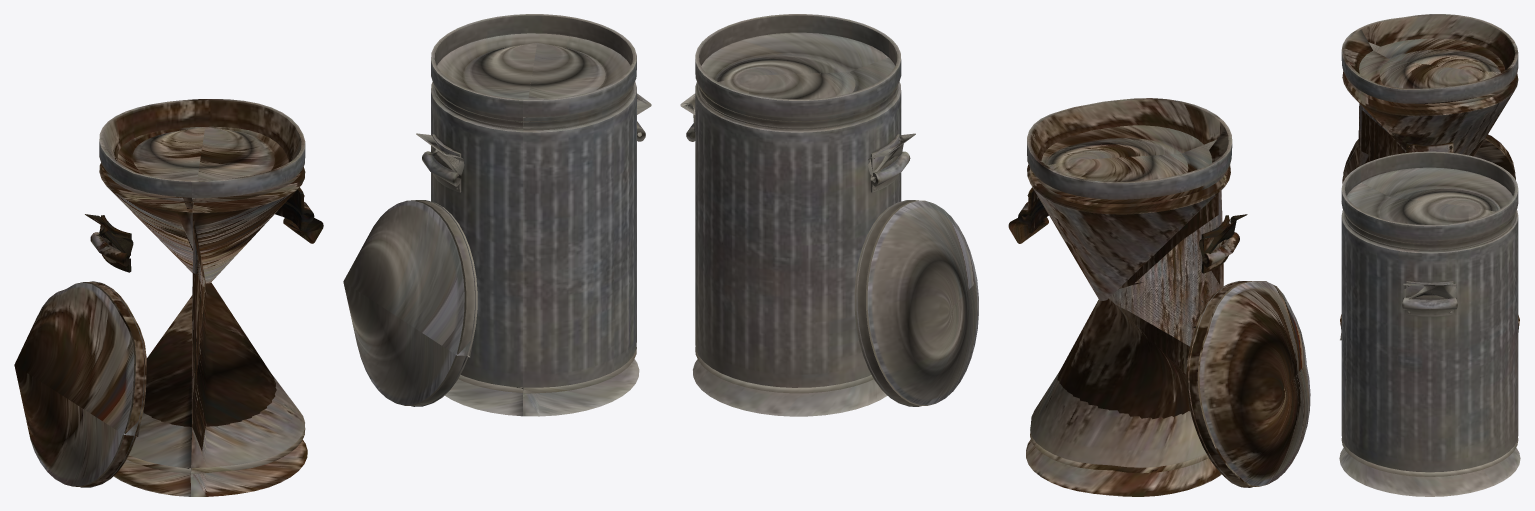
File: ph_trashcan.glb
3 renders of one model, left to right at view 1: azimuth 30°, elevation 25°; view 2: azimuth 150°, elevation 25°; view 3: azimuth 270°, elevation 25°, orthographic. The views are drawn at different scales.
Bounding box in the file's own units: 1.82 × 0.9062 × 0.5514.
3 materials, 3 textured.
